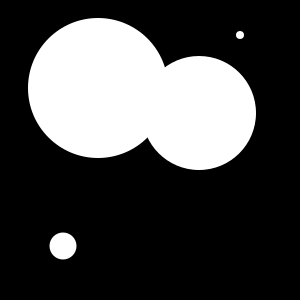rectangle: (28, 18, 168, 158), (142, 56, 256, 170), (49, 232, 76, 260), (236, 31, 244, 39)
